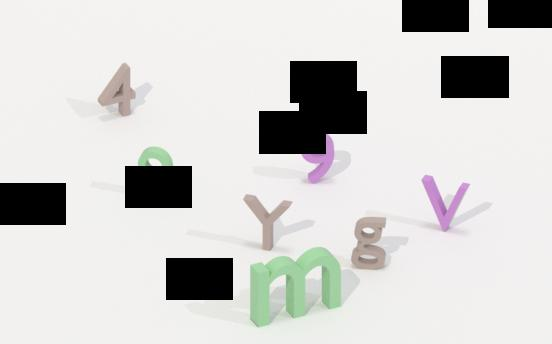4: (94, 60, 142, 118)
9: (298, 130, 340, 185), (135, 146, 178, 199)
Y-hoa: (239, 187, 296, 252)
g: (347, 215, 390, 274)
m: (240, 251, 346, 325)
v: (417, 170, 474, 234)
